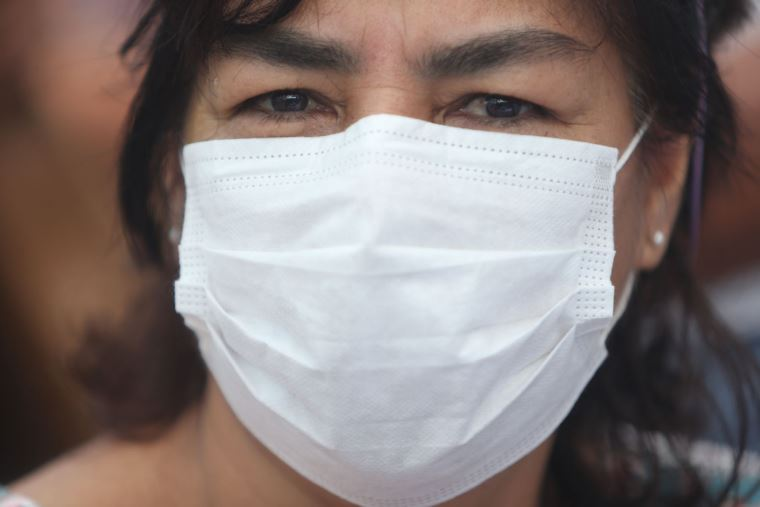with_mask: (156, 1, 696, 466)
